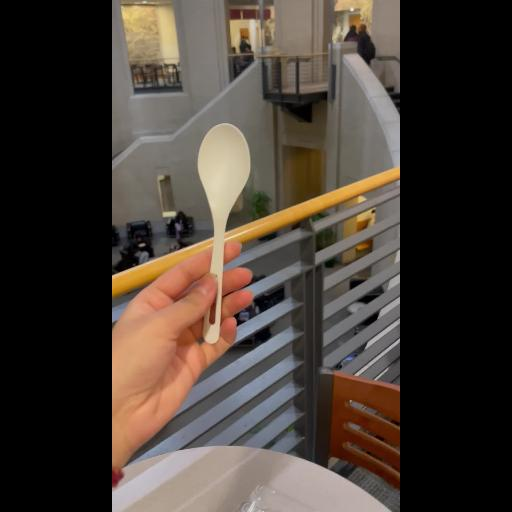utensil: (196, 122, 252, 344)
